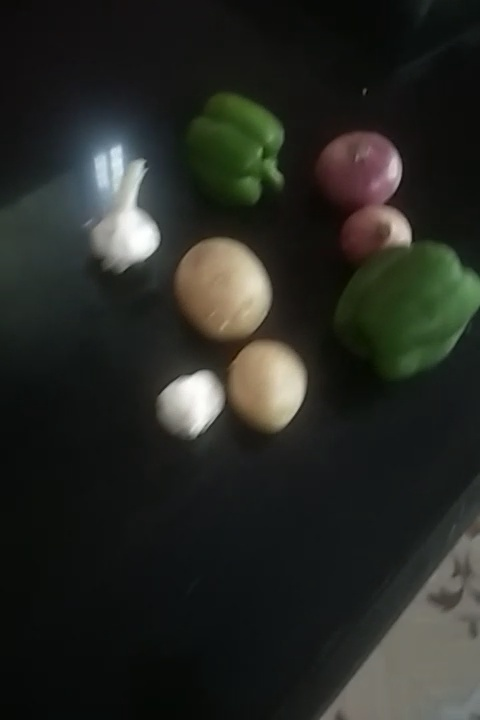capsicum: (343, 248, 466, 378), (183, 85, 288, 213)
garlic: (87, 174, 159, 281), (149, 363, 218, 446)
onion: (325, 126, 401, 209), (330, 204, 418, 267)
potato: (168, 239, 270, 342), (226, 338, 301, 434)
